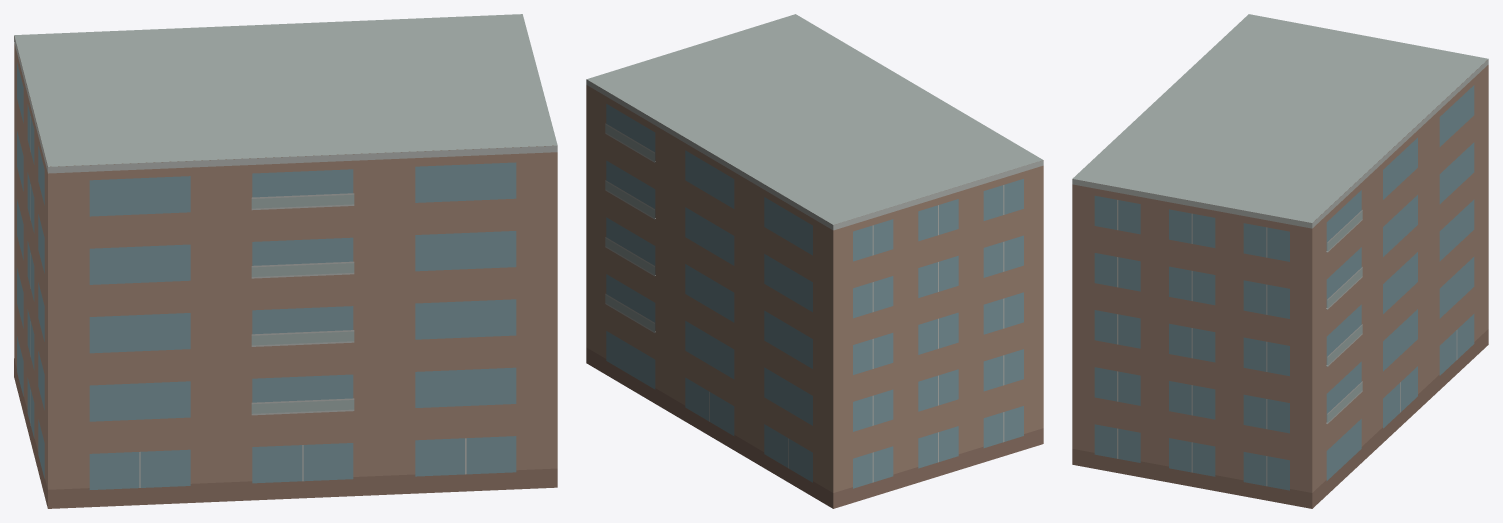
Rendered from survey-upis-33005124.glb.
The picture shows the model from 3 angles, left to right: view 1: azimuth 30°, elevation 25°; view 2: azimuth 150°, elevation 25°; view 3: azimuth 270°, elevation 25°; orthographic projection. The views are drawn at different scales.
Parts seen in each view (by area): view 1: survey-upis-33005124.tmp; view 2: survey-upis-33005124.tmp; view 3: survey-upis-33005124.tmp.
Part boxes in pixels (x1,y1,x2,y2): survey-upis-33005124.tmp: (14,14,557,508); survey-upis-33005124.tmp: (586,14,1043,508); survey-upis-33005124.tmp: (1072,14,1488,508).
Bounding box in the file's own units: 19.69 × 12.55 × 16.58.
